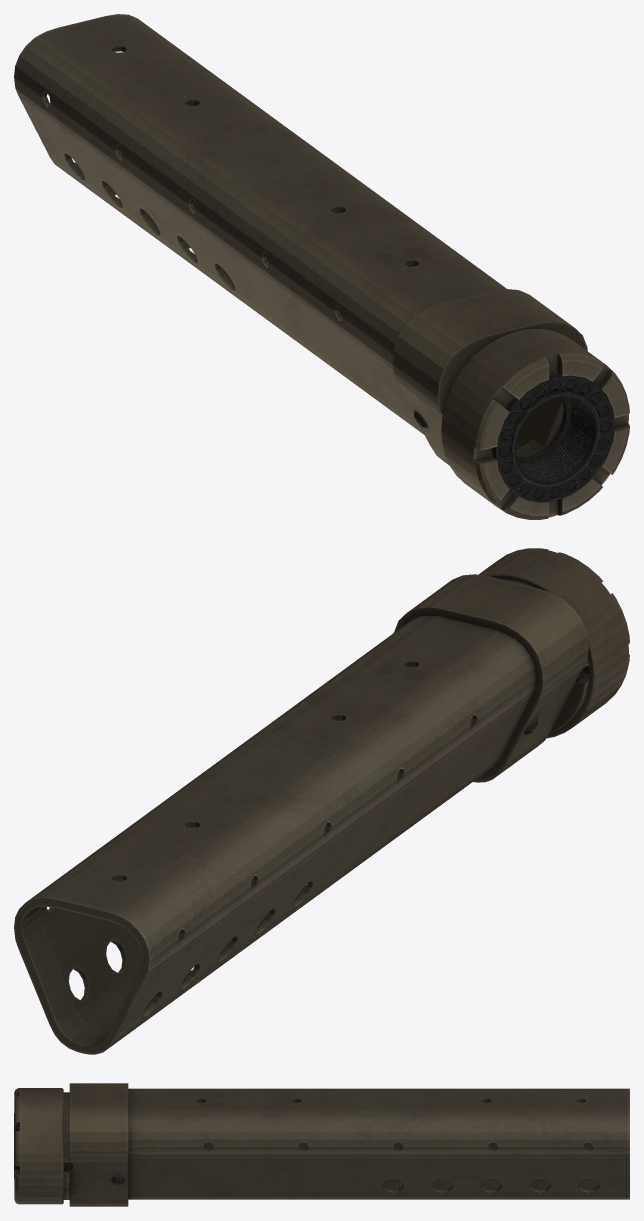
3 views of the same model, one above another, from view 1: azimuth 30°, elevation 25°; view 2: azimuth 150°, elevation 25°; view 3: azimuth 270°, elevation 25° (orthographic). The views are drawn at different scales.
Parts seen in each view (by area): view 1: TW_63888bbd28e5cc32cc09d2b6_PZ_Import; view 2: TW_63888bbd28e5cc32cc09d2b6_PZ_Import; view 3: TW_63888bbd28e5cc32cc09d2b6_PZ_Import.
Part boxes in pixels (bbox=[...]): TW_63888bbd28e5cc32cc09d2b6_PZ_Import: bbox=[14, 14, 629, 519]; TW_63888bbd28e5cc32cc09d2b6_PZ_Import: bbox=[14, 548, 629, 1054]; TW_63888bbd28e5cc32cc09d2b6_PZ_Import: bbox=[14, 1083, 629, 1206].
Size of the model in its own units: 0.0347 by 0.1834 by 0.0361.
Materials: 1 (1 with a texture image).
